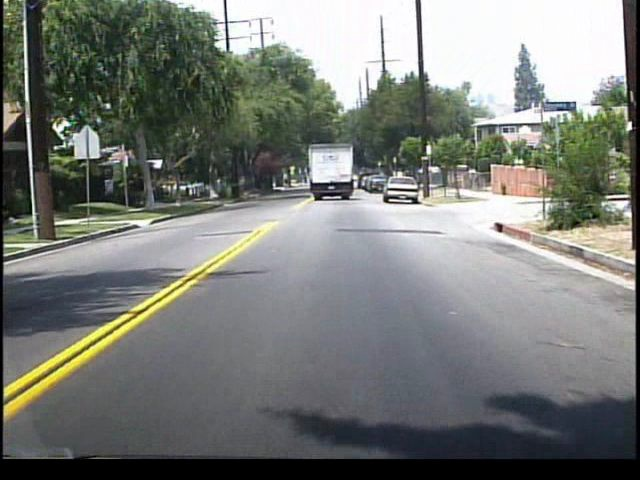person: (466, 165, 476, 191)
